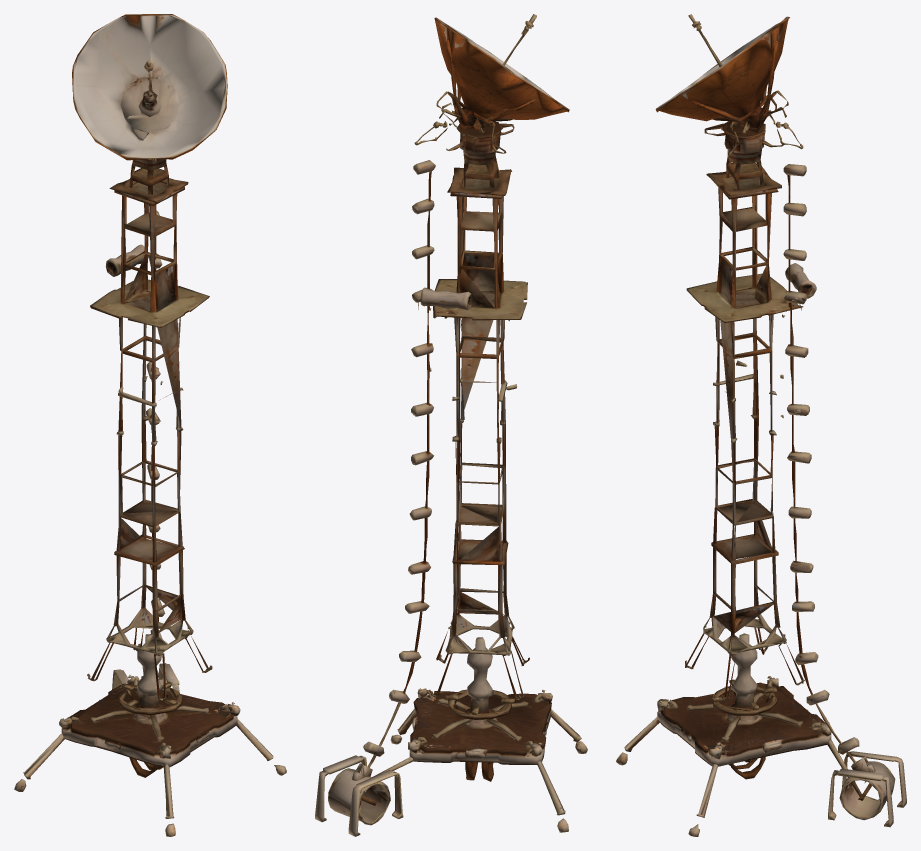
File: antenna.glb
3 renders of one model, left to right at view 1: azimuth 30°, elevation 25°; view 2: azimuth 150°, elevation 25°; view 3: azimuth 270°, elevation 25°, orthographic.
Parts seen in each view (by area): view 1: tripo_node_521b9e83-b45d-40f7-8241-5df34262ceed; view 2: tripo_node_521b9e83-b45d-40f7-8241-5df34262ceed; view 3: tripo_node_521b9e83-b45d-40f7-8241-5df34262ceed.
Part boxes in pixels (x1,y1,x2,y2): tripo_node_521b9e83-b45d-40f7-8241-5df34262ceed: (14, 14, 286, 836); tripo_node_521b9e83-b45d-40f7-8241-5df34262ceed: (315, 14, 587, 836); tripo_node_521b9e83-b45d-40f7-8241-5df34262ceed: (616, 14, 906, 836).
Bounding box in the file's own units: 0.3105 × 0.998 × 0.3457.
Materials: 1 (1 with a texture image).
